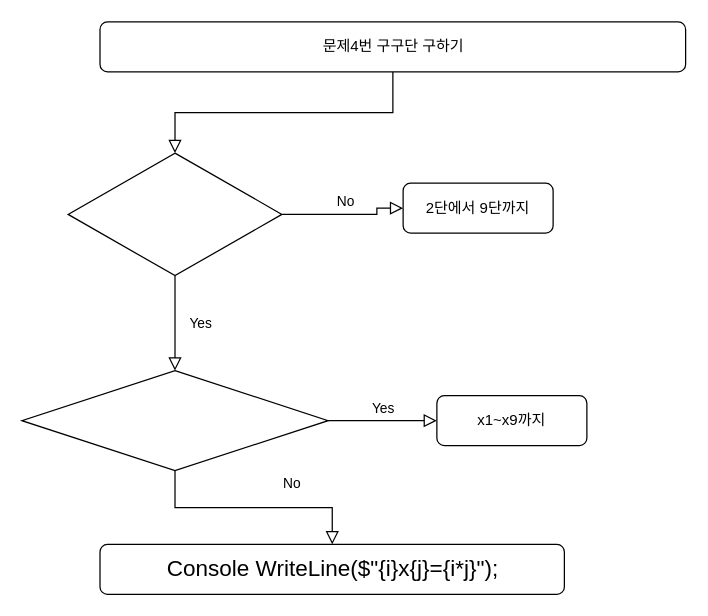
Some shapes in this 708 by 616 pixel diagram are drawn without their labels. Each missing label, with the centre of its shape:
"for(int i=2; i<10; i++)" goes at point 174,214.
"for(int j=1; j<10; j++)" goes at point 174,420.
